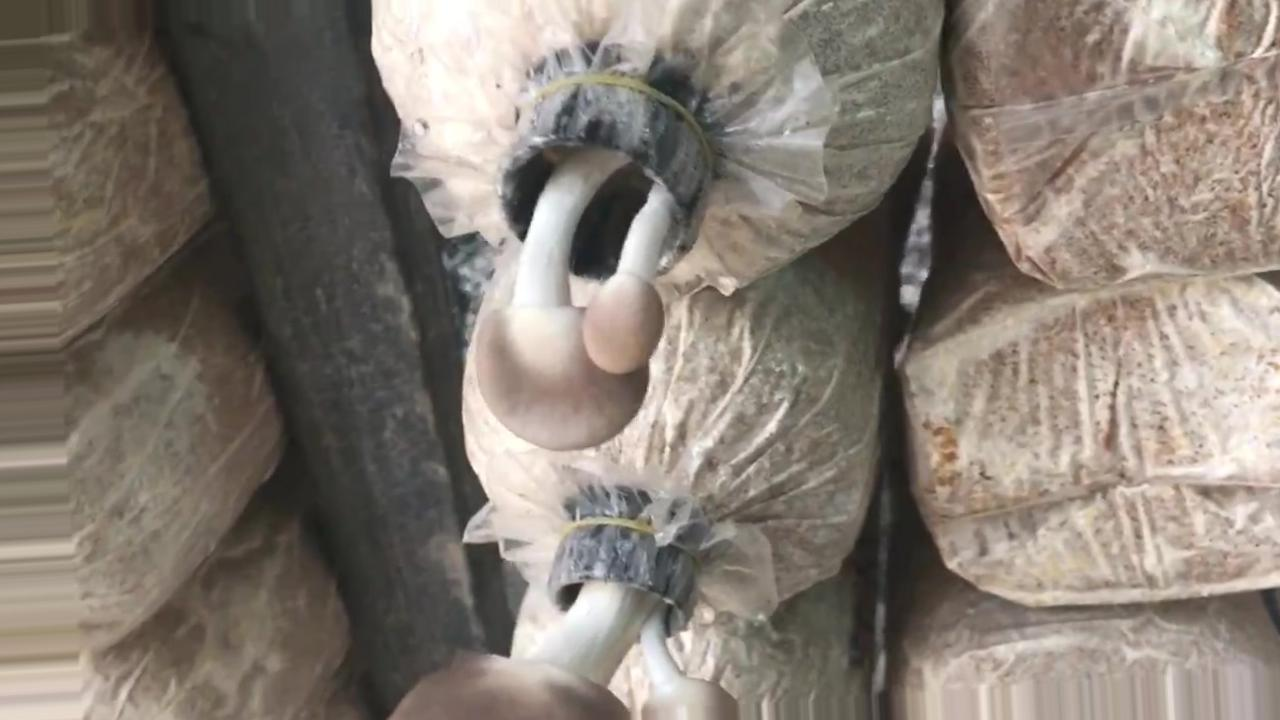nam: (474, 80, 698, 450), (398, 517, 739, 720)
